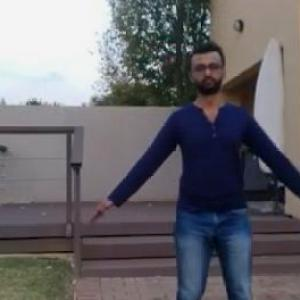land: (100, 54, 299, 299)
